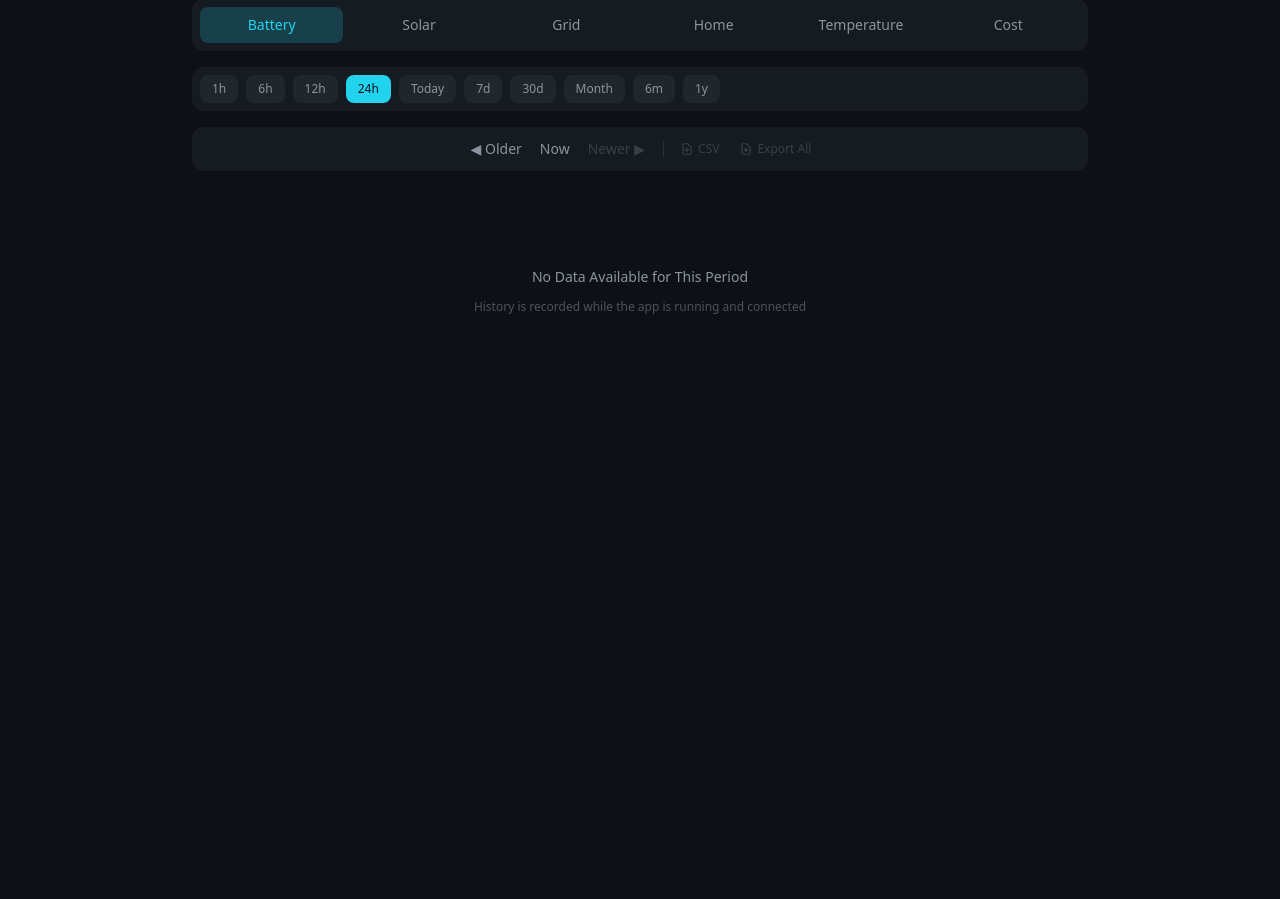
Test case: <HistoryPage/> — tabs, ranges, navigation, empty state › tabs › renders the Open-Meteo credit footer on the Temperature tab
The width and height of the screenshot is (1280, 899).
What coordinates should you click on to do the following:
click the button "Temperature"
I would click on:
 (861, 25)
Its box is [789, 7, 933, 43].
(page scrolled)
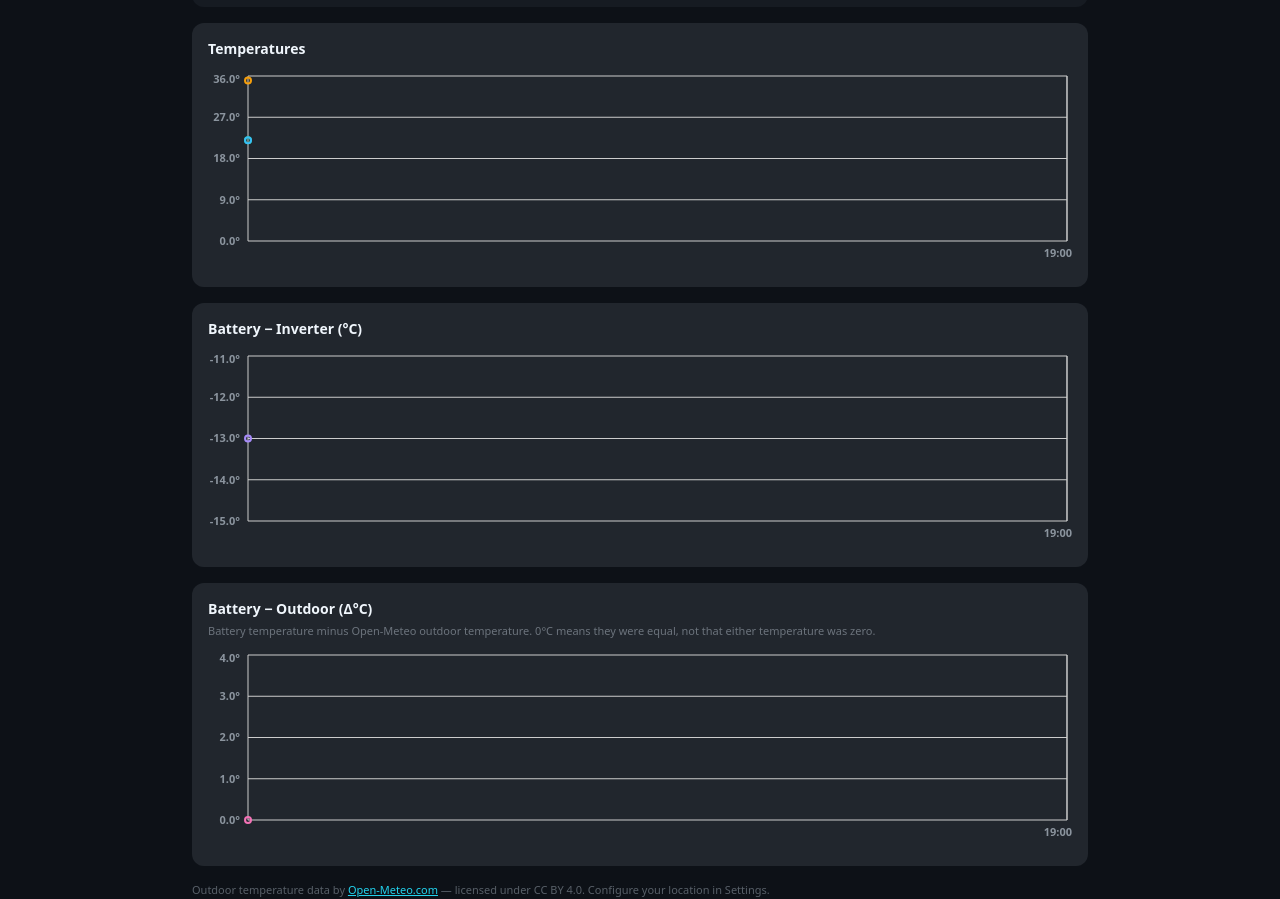
Now the text "Outdoor temperature data by" is shown, box [192, 882, 345, 897]
